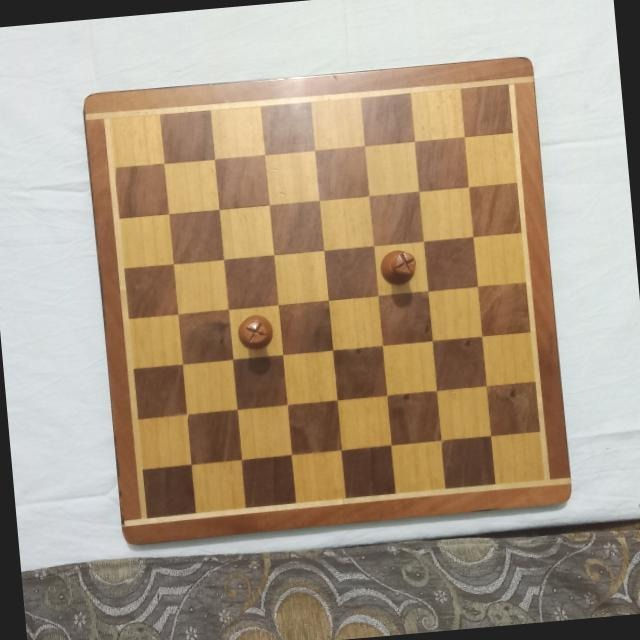white-rook: (377, 247, 419, 288), (235, 310, 275, 349)
